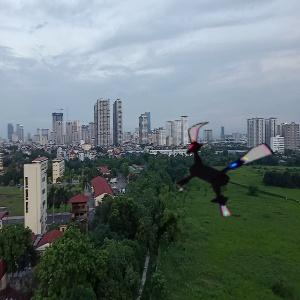drone: (169, 115, 277, 223)
